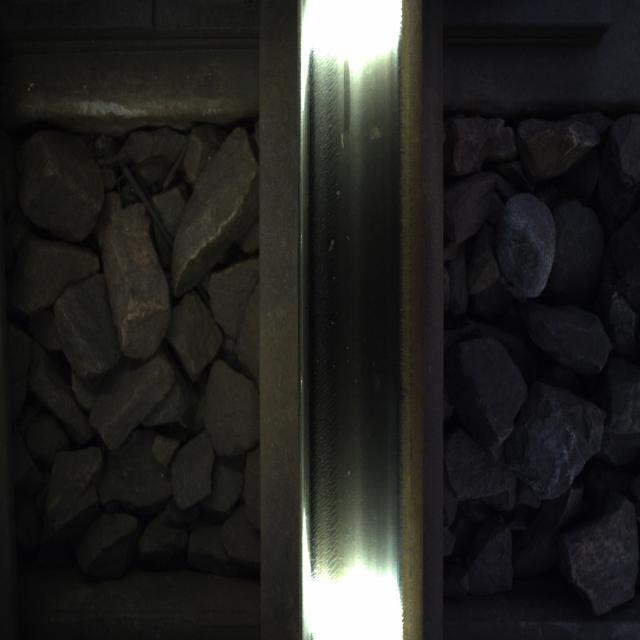break: (297, 18, 408, 632)
